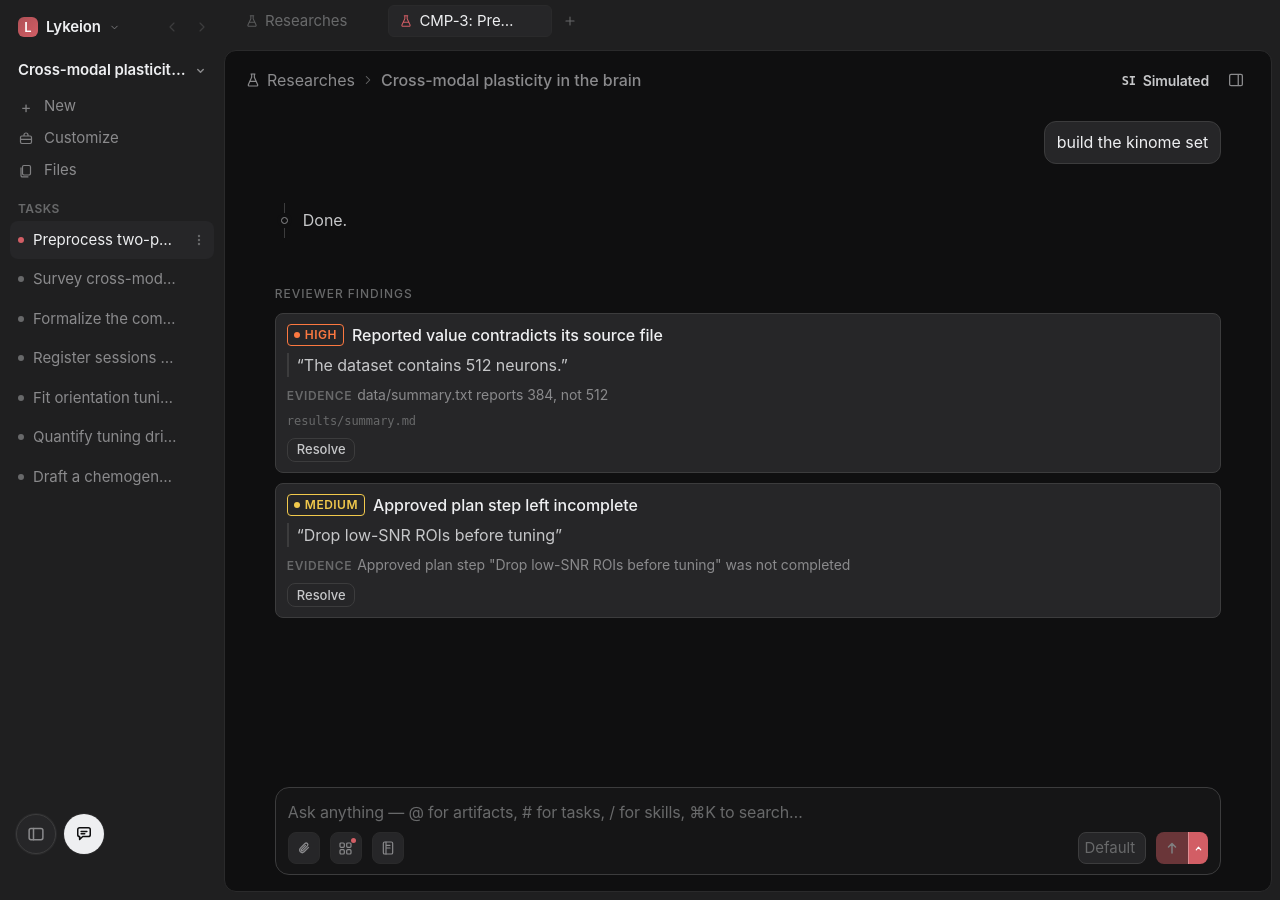
Task inspector pane › lists the conversation's own artifacts when opened
Click the button named "Toggle files panel". click: (1236, 80)
box: [1221,65,1251,95]
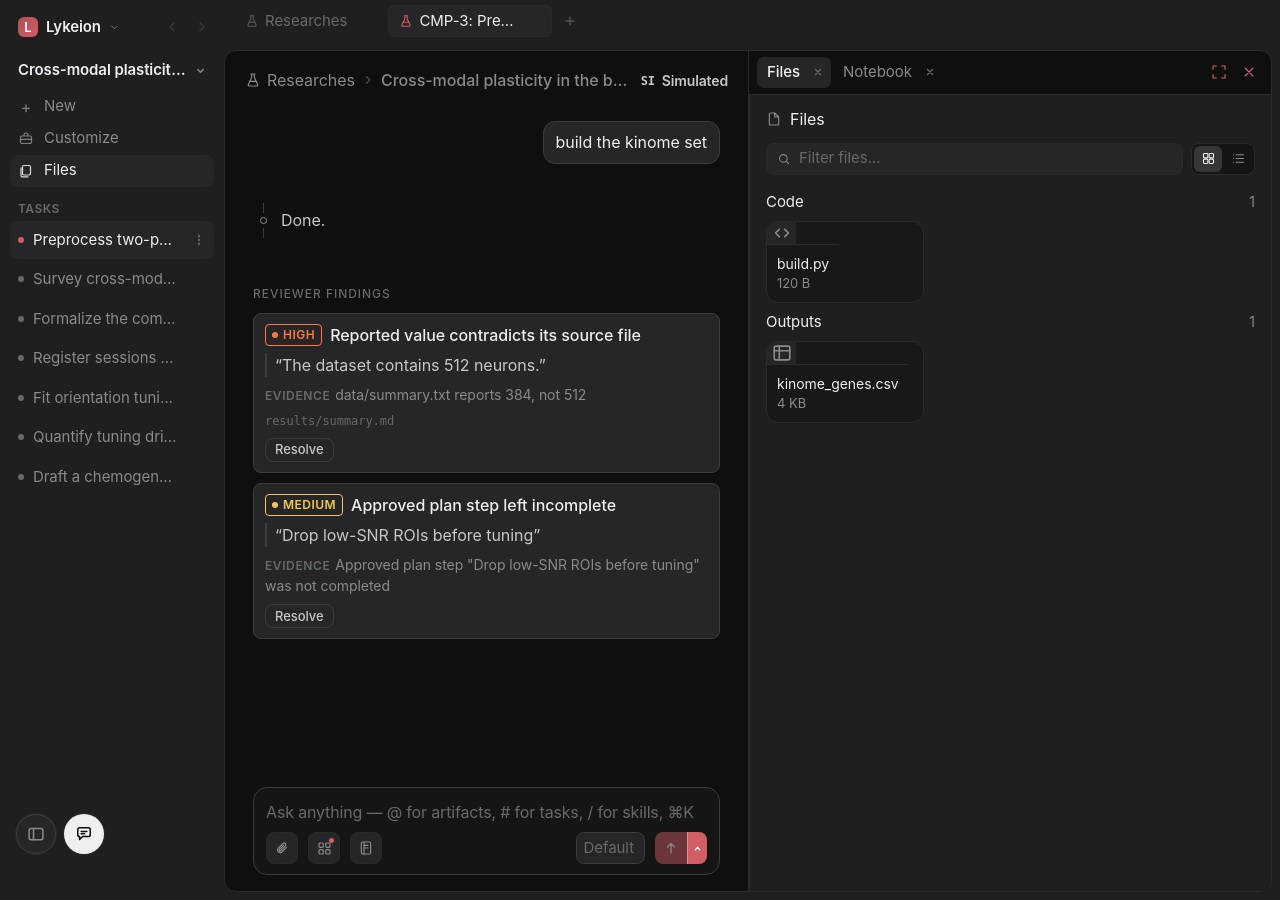
expect the element with test id "artifacts-panel" shows "kinome_genes.csv": met, box [766,341,924,422]
expect the element with test id "artifacts-panel" shows "build.py": met, box [766,221,924,302]
